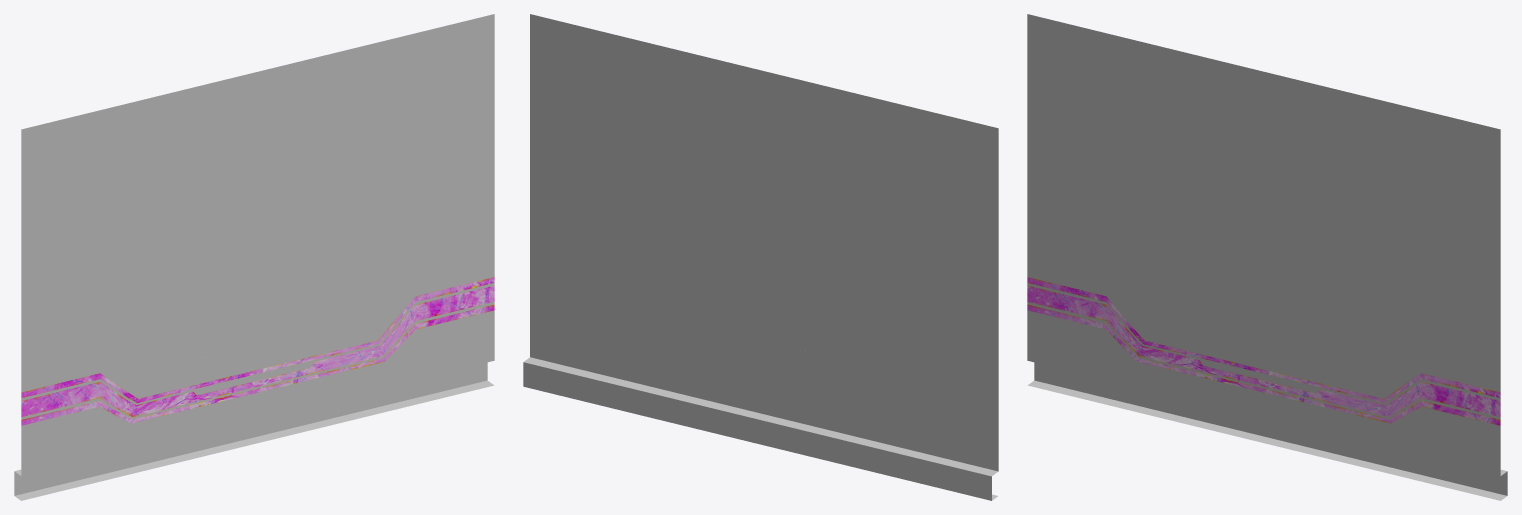
File: wall_01_4x3_d.fbx
3 views of the same model, side by side, from view 1: azimuth 30°, elevation 25°; view 2: azimuth 150°, elevation 25°; view 3: azimuth 330°, elevation 25° (orthographic).
Visible parts, largest first — view 1: Plane.238, Plane.239, Plane.240; view 2: Plane.238, Plane.239; view 3: Plane.238, Plane.239, Plane.240.
Part boxes in pixels (x1,y1,x2,y2): Plane.238: (21, 14, 494, 375); Plane.239: (14, 212, 494, 500); Plane.240: (21, 277, 494, 425); Plane.238: (530, 14, 998, 372); Plane.239: (523, 210, 998, 500); Plane.238: (1027, 14, 1500, 375); Plane.239: (1027, 212, 1507, 500); Plane.240: (1027, 277, 1500, 425).
Bounding box in the file's own units: 4 × 3 × 0.101.
